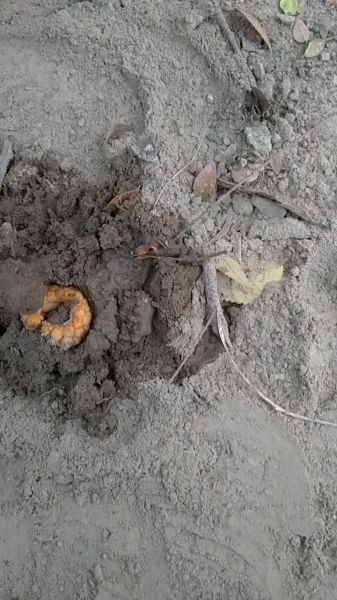eggs: (18, 282, 99, 353)
